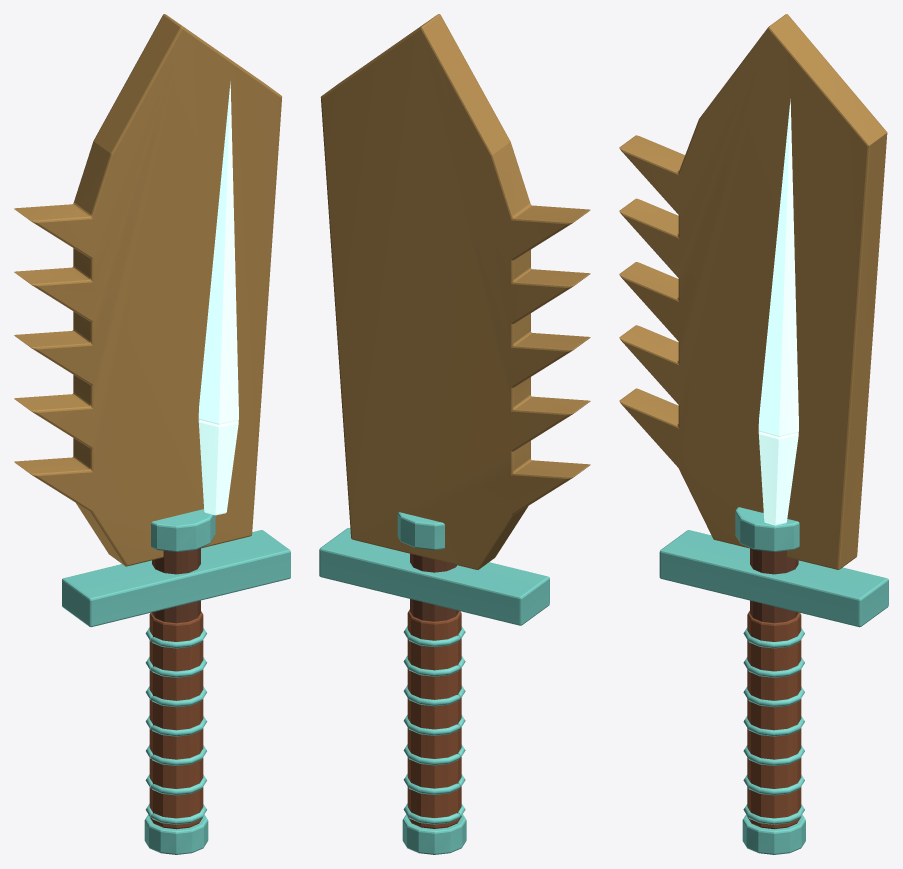
File: item_002.glb
3 renders of one model, left to right at view 1: azimuth 30°, elevation 25°; view 2: azimuth 150°, elevation 25°; view 3: azimuth 330°, elevation 25°, orthographic.
Parts seen in each view (by area): view 1: Item_002_glass_saw; view 2: Item_002_glass_saw; view 3: Item_002_glass_saw.
Boxes of the visible parts, left/top/right/bottom form: Item_002_glass_saw: left=14, top=14, right=290, bottom=854; Item_002_glass_saw: left=319, top=14, right=590, bottom=854; Item_002_glass_saw: left=619, top=14, right=888, bottom=854.
Size of the model in its own units: 0.4982 by 1.55 by 0.1666.
